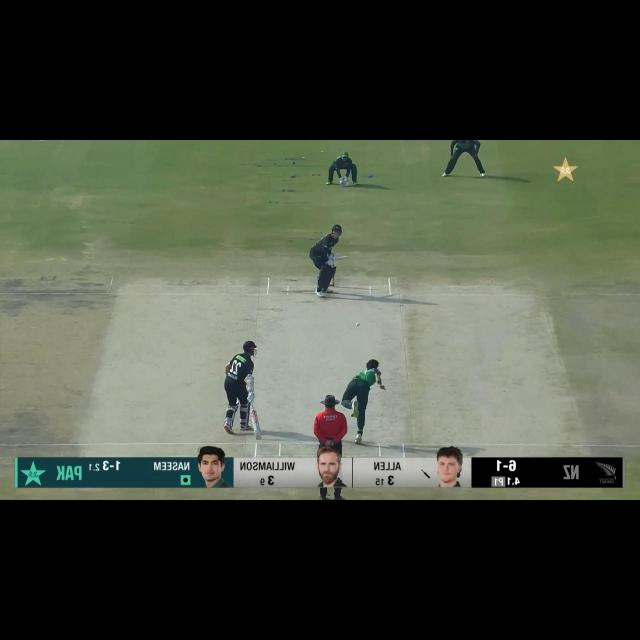bat: (250, 410, 263, 440), (332, 255, 350, 261)
toe: (253, 431, 263, 440), (346, 256, 351, 261)
